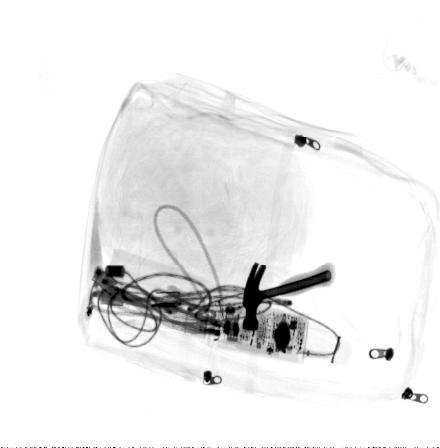Hammer: (241, 260, 337, 332)
